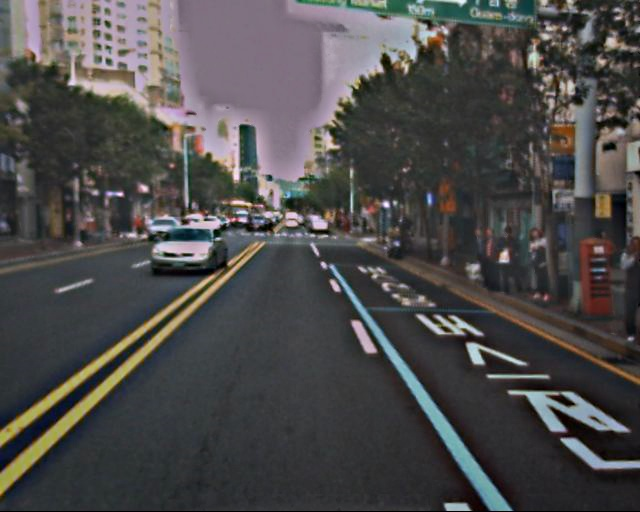person: (608, 237, 640, 346), (522, 229, 553, 304), (497, 228, 523, 292), (478, 229, 502, 288), (469, 230, 491, 283)
